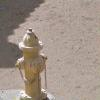Hydrant: (10, 20, 65, 100)
